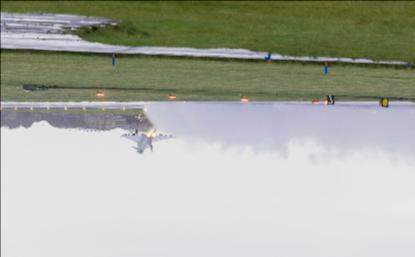E2: (120, 130, 176, 155)
